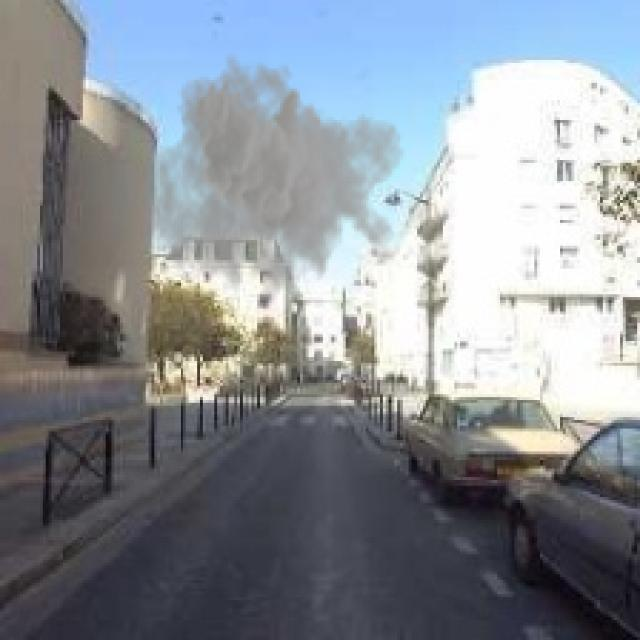Smoke: (140, 51, 406, 318)
